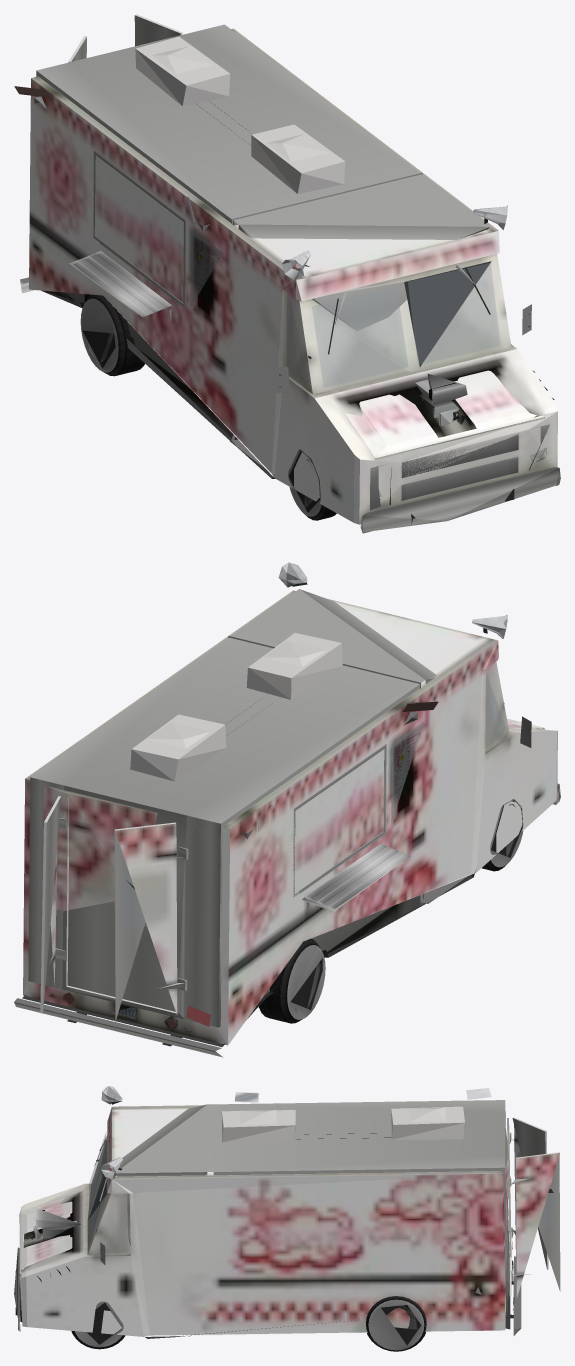
Rendered from icecream_lo.glb.
3 renders of one model, top to bottom at view 1: azimuth 30°, elevation 25°; view 2: azimuth 150°, elevation 25°; view 3: azimuth 270°, elevation 25°, orthographic. The views are drawn at different scales.
Parts seen in each view (by area): view 1: BODY, W0, W3; view 2: BODY, W0, W3; view 3: BODY, W1, W2.
Part boxes in pixels (x1,y1,x2,y2): BODY: (14,14,560,533); W0: (80,294,144,376); W3: (288,449,336,520); BODY: (14,562,560,1057); W0: (258,938,325,1023); W3: (482,799,523,871); BODY: (14,1086,560,1338); W1: (366,1296,426,1351); W2: (71,1301,125,1349).
Bounding box in the file's own units: 2.7 × 2.7 × 6.57.
Materials: 17 (14 with a texture image).
